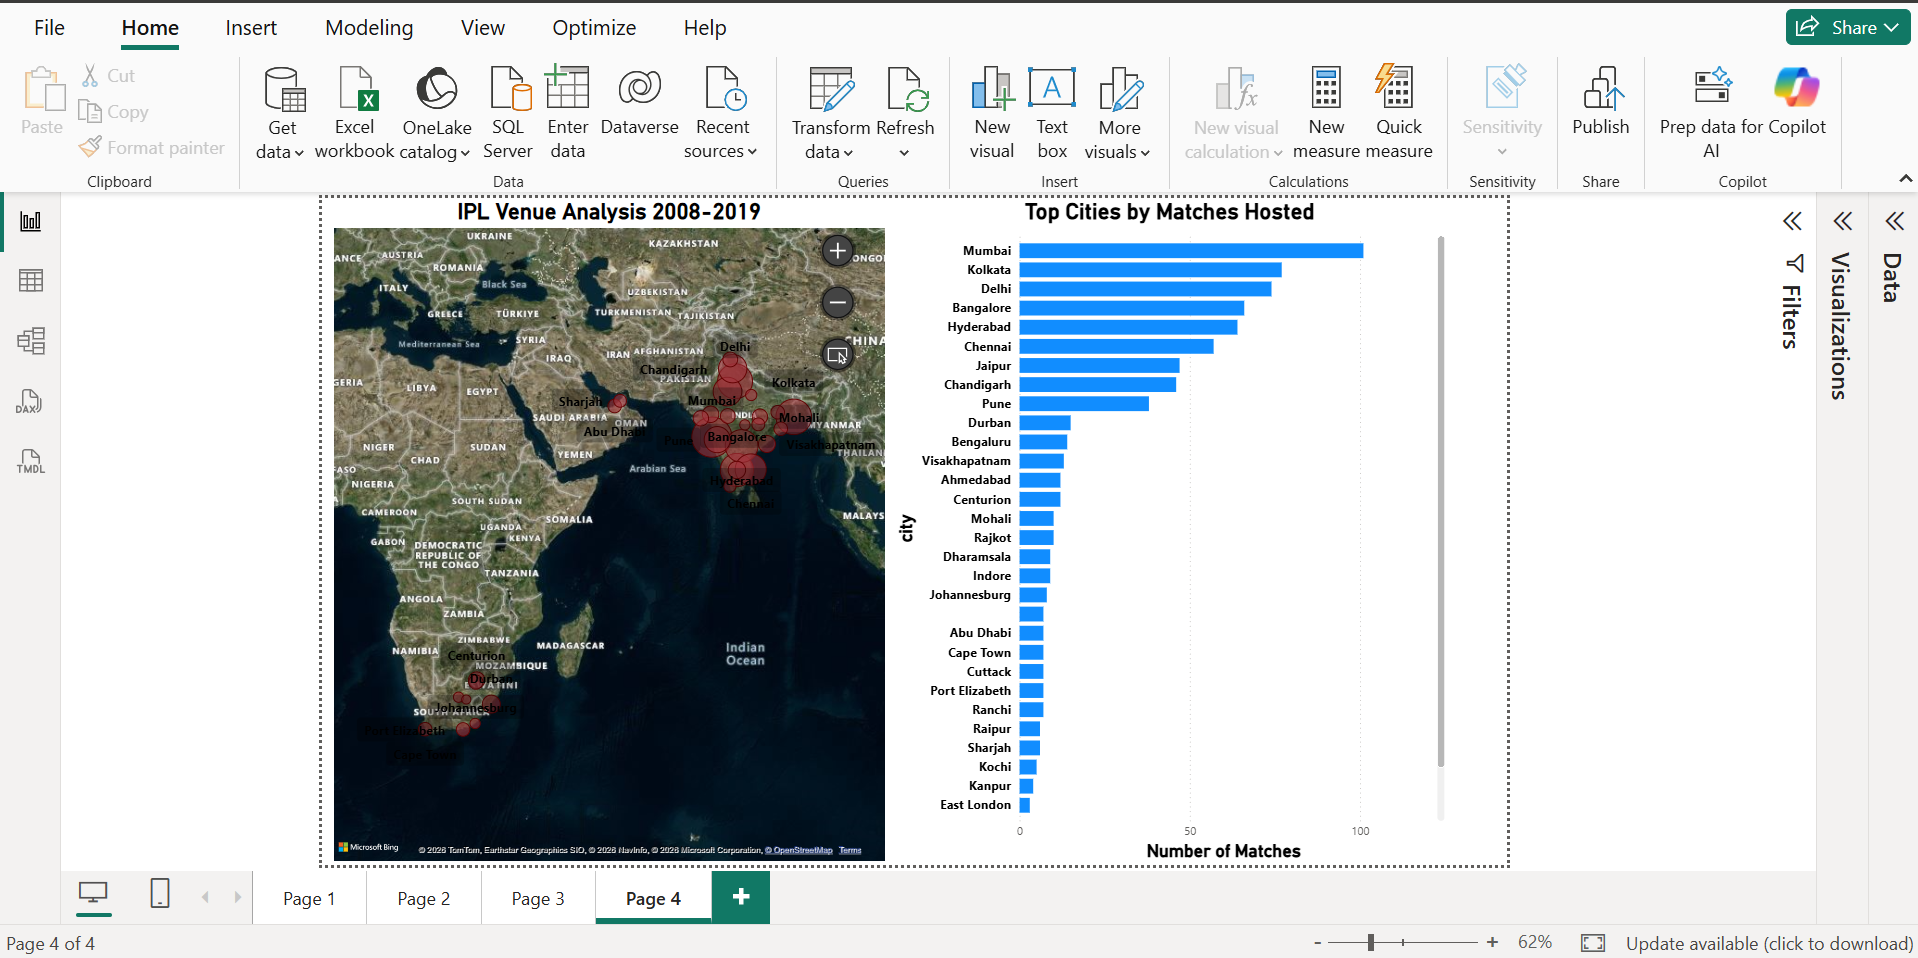

Layout of this report page (visuals, bound fields, positions):
{"tool":"powerbi","page":{"name":"Page 4","canvas":[1280,720],"ordinal":3},"visuals":[{"type":"map","title":"IPL Venue Analysis 2008-2019","fields":{"Category":["matches.city"],"Size":["CountNonNull(matches.id)"]},"box":[8.8,0,603.8,720],"z":0},{"type":"barChart","title":"Top Cities by Matches Hosted","fields":{"Category":["matches.city"],"Y":["CountNonNull(matches.id)"]},"box":[613,0,603,720],"z":1000}]}

Visuals, with their boxes on the page's 1280x720 design canvas (x1, y1, x2, y2). These are canvas units, not pixel positions in the 1918x958 screenshot, which may show the page scaled, cropped or inside an application window:
"IPL Venue Analysis 2008-2019" map: (x1=9, y1=0, x2=613, y2=720)
"Top Cities by Matches Hosted" barChart: (x1=613, y1=0, x2=1216, y2=720)
